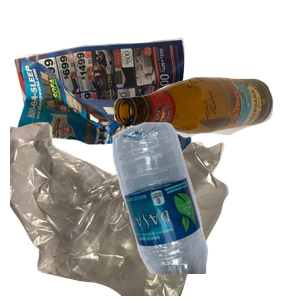glass: (111, 74, 300, 204)
paper: (12, 31, 196, 204)
plastic: (110, 120, 300, 300)
trash: (10, 120, 231, 300)
